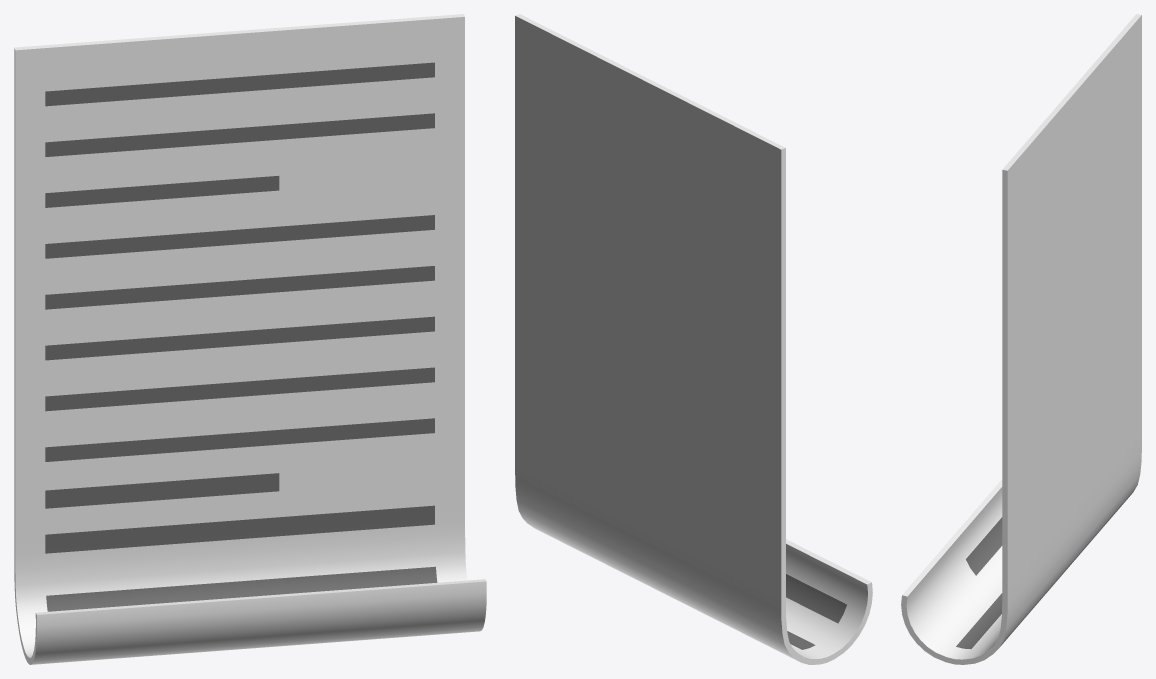
Rendered from page_with_curl.glb.
3 views of the same model, side by side, from view 1: azimuth 30°, elevation 25°; view 2: azimuth 150°, elevation 25°; view 3: azimuth 270°, elevation 25° (orthographic). The views are drawn at different scales.
Visible parts, largest first — view 1: page with curl; view 2: page with curl; view 3: page with curl.
Boxes of the visible parts, x1,y1,x2,y2 form: page with curl: (14,14,486,664); page with curl: (515,14,872,664); page with curl: (901,14,1141,664).
Bounding box in the file's own units: 1.56 × 2.12 × 0.9228.
1 material, 1 textured.
